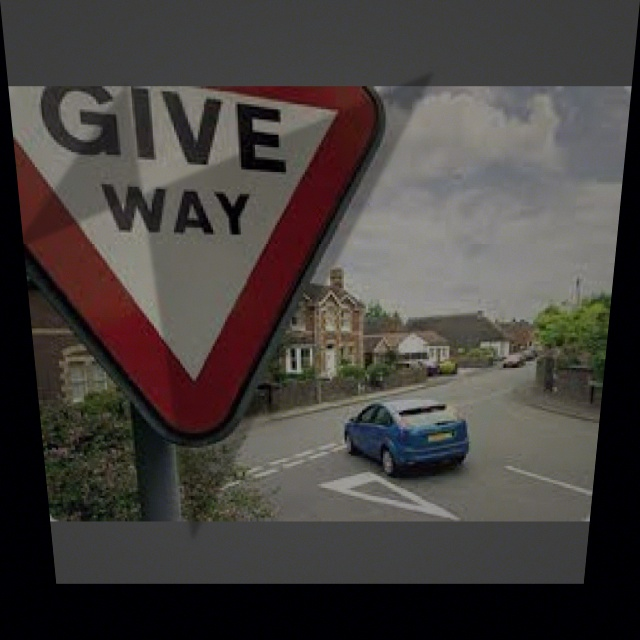Give_Way: (16, 86, 358, 392)
